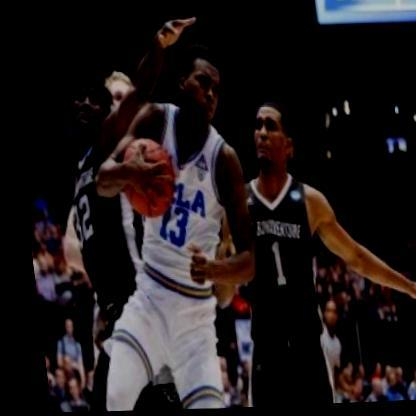basketball: (109, 132, 178, 225)
